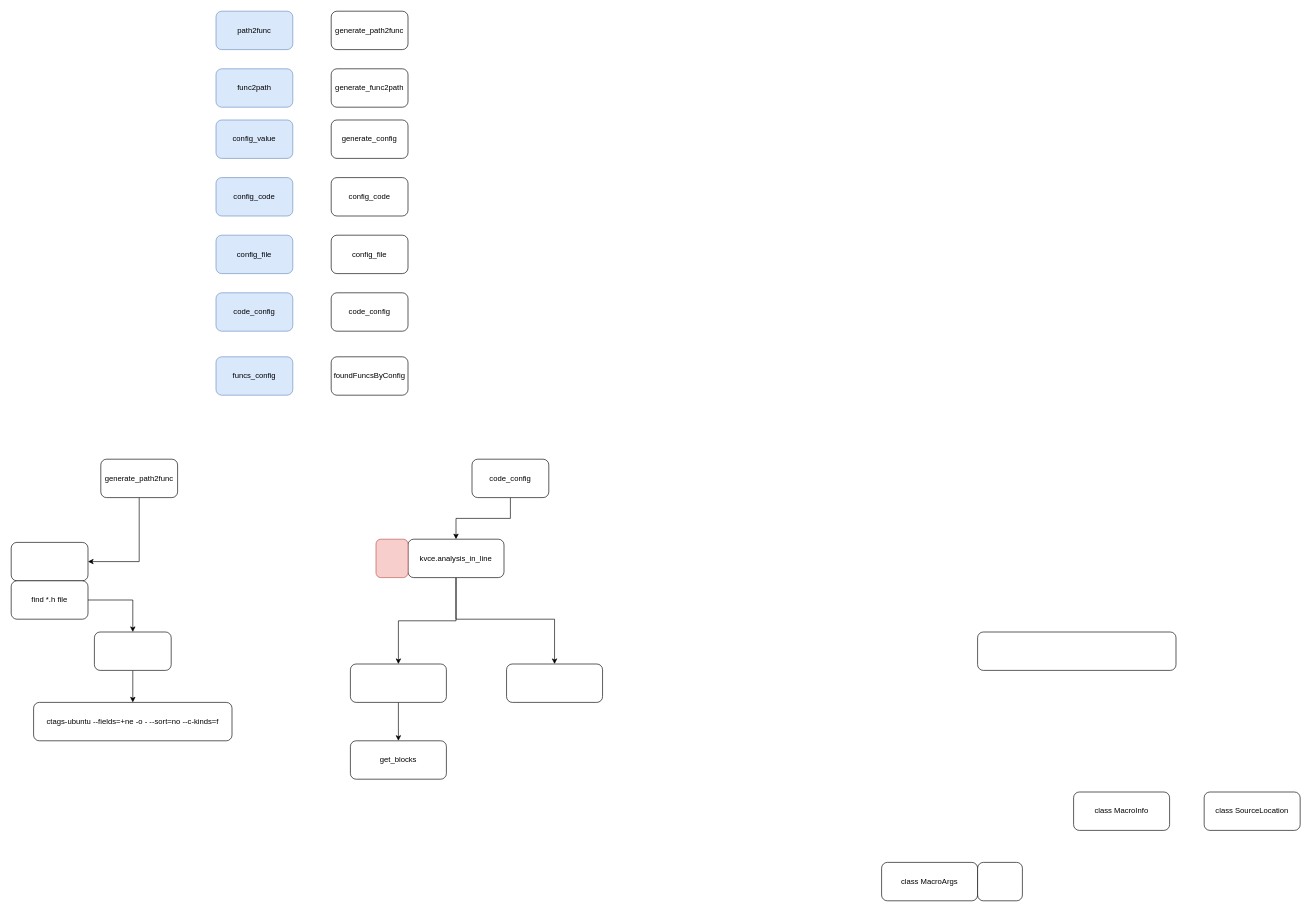
Some shapes in this 1311 by 912 pixel diagram are drawn without their labels. The centre of each missing label's shape, as x and y in pixels:
"analysis" belongs at [132,650].
"clang.analysis" belongs at [554,682].
"clang/include/clang/Basic/TokenKinds.def" belongs at [1076,650].
"final" belongs at [999,881].
"find *.c file" belongs at [49,561].
"kvce" belongs at [391,558].
"search_source" belongs at [398,682].
